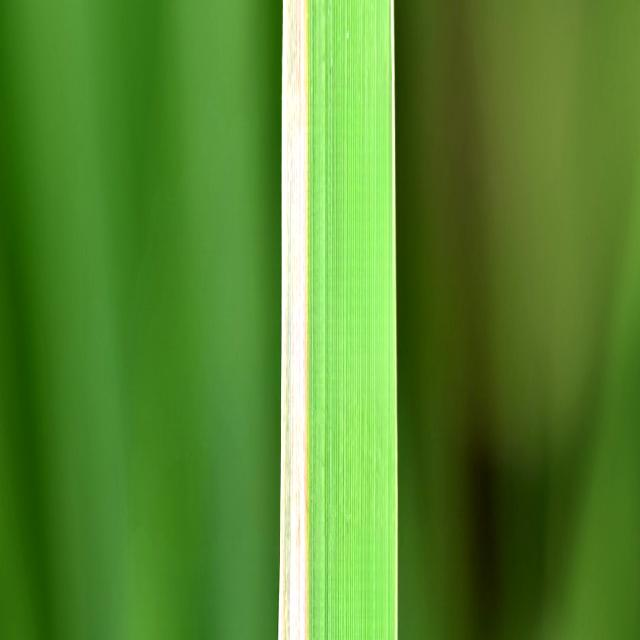BLB: (278, 0, 307, 640)
